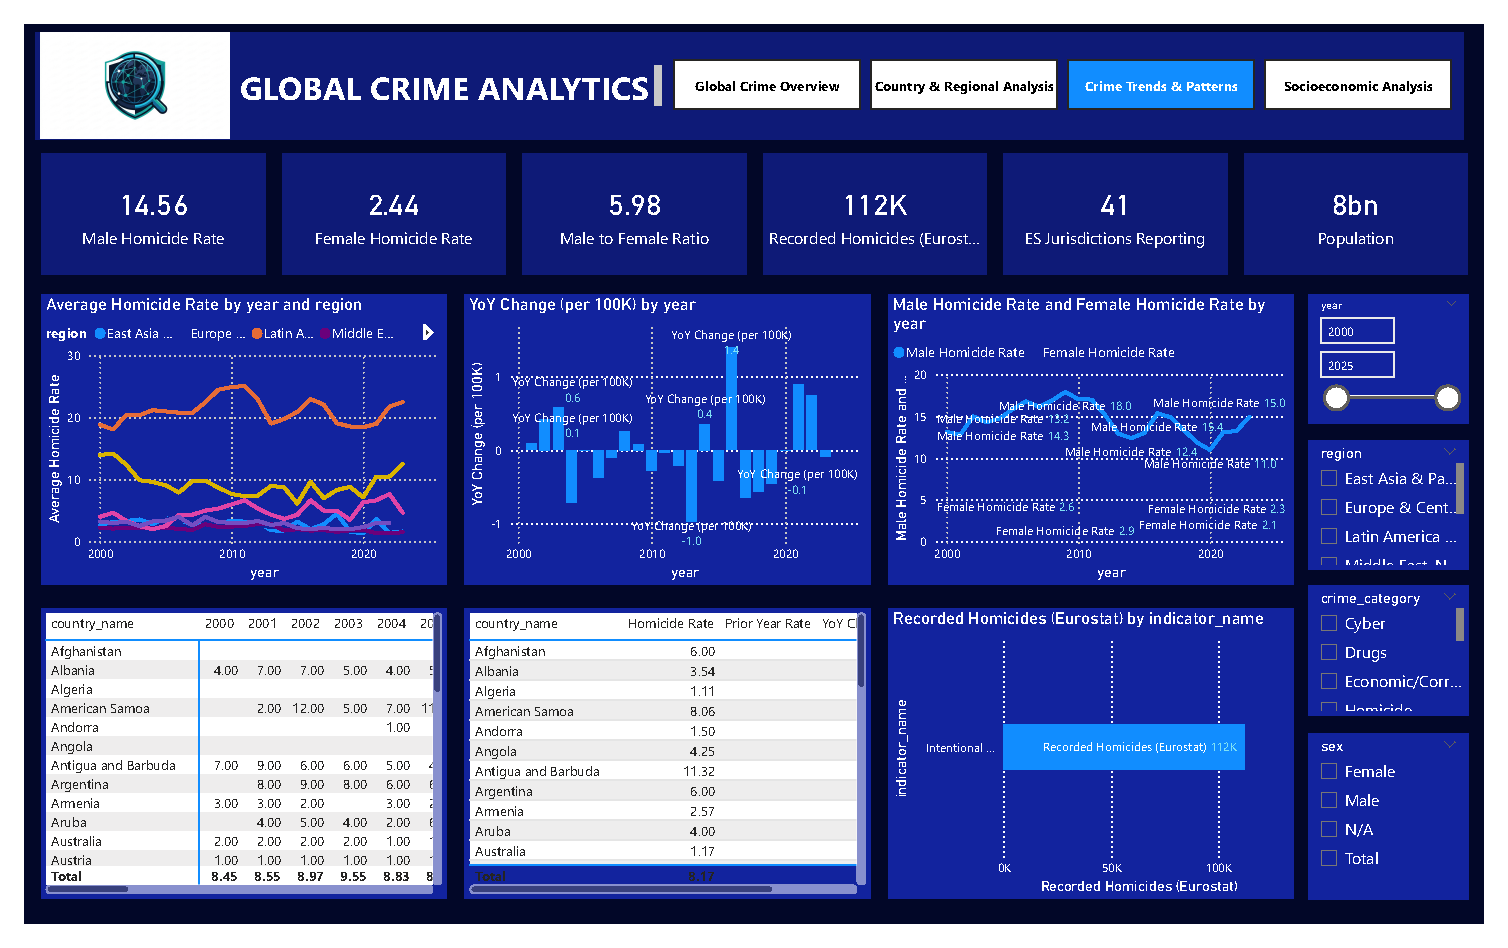

Layout of this report page (visuals, bound fields, positions):
{"tool":"powerbi","page":{"name":"Crime Trends & Patterns","canvas":[1460,900],"ordinal":2},"visuals":[{"type":"shape","box":[11.4,7.6,1429.1,108.5],"z":0},{"type":"card","fields":{"Values":["Global_Crime_Analytics_Master.Male Homicide Rate"]},"box":[17.3,129.4,224.5,121.8],"z":0,"group":"g1"},{"type":"lineChart","fields":{"Category":["Global_Crime_Analytics_Master.year"],"Y":["Global_Crime_Analytics_Master.Average Homicide Rate"],"Series":["Global_Crime_Analytics_Master.region"]},"box":[17.2,270.2,406.2,291.2],"z":0,"group":"g2"},{"type":"pivotTable","fields":{"Rows":["Global_Crime_Analytics_Master.country_name"],"Columns":["Global_Crime_Analytics_Master.year"],"Values":["Global_Crime_Analytics_Master.Homicide Rate"]},"box":[17.2,584.4,406.2,291.2],"z":0,"group":"g3"},{"type":"image","box":[17.1,3.8,188.4,116.1],"z":1000},{"type":"card","fields":{"Values":["Global_Crime_Analytics_Master.Female Homicide Rate"]},"box":[257.8,129.4,224.5,121.8],"z":1000,"group":"g1"},{"type":"clusteredColumnChart","fields":{"Category":["Global_Crime_Analytics_Master.year"],"Y":["Global_Crime_Analytics_Master.YoY Change (per 100K)"]},"box":[440.6,270.2,406.2,291.2],"z":1000,"group":"g2"},{"type":"tableEx","fields":{"Values":["Global_Crime_Analytics_Master.country_name","Global_Crime_Analytics_Master.Homicide Rate","Global_Crime_Analytics_Master.Prior Year Rate","Global_Crime_Analytics_Master.YoY Change (per 100K)"]},"box":[440.6,584.4,406.2,291.2],"z":1000,"group":"g3"},{"type":"textbox","box":[205.5,36.2,437.7,51.4],"z":2000},{"type":"card","fields":{"Values":["Global_Crime_Analytics_Master.Male to Female Ratio"]},"box":[498.3,129.4,224.5,121.8],"z":2000,"group":"g1"},{"type":"lineChart","fields":{"Category":["Global_Crime_Analytics_Master.year"],"Y":["Global_Crime_Analytics_Master.Male Homicide Rate","Global_Crime_Analytics_Master.Female Homicide Rate"]},"box":[864.1,270.2,406.2,291.2],"z":2000,"group":"g2"},{"type":"clusteredBarChart","fields":{"Category":["Global_Crime_Analytics_Master.indicator_name"],"Y":["Global_Crime_Analytics_Master.Recorded Homicides (Eurostat)"]},"box":[864.1,584.4,406.2,291.2],"z":2000,"group":"g3"},{"type":"group","id":"g1","title":"Group 1","box":[17.3,129.4,1427.2,121.8],"z":3000},{"type":"card","fields":{"Values":["Global_Crime_Analytics_Master.Recorded Homicides (Eurostat)"]},"box":[738.9,129.4,224.5,121.8],"z":3000,"group":"g1"},{"type":"card","fields":{"Values":["Global_Crime_Analytics_Master.ES Jurisdictions Reporting"]},"box":[979.4,129.4,224.5,121.8],"z":4000,"group":"g1"},{"type":"group","id":"g2","title":"Group 2","box":[17.2,270.2,1253.1,291.2],"z":4000},{"type":"card","fields":{"Values":["Global_Crime_Analytics_Master.Population"]},"box":[1219.9,129.4,224.5,121.8],"z":5000,"group":"g1"},{"type":"group","id":"g3","title":"Group 2","box":[17.2,584.4,1253.1,291.2],"z":5000},{"type":"slicer","fields":{"Values":["Global_Crime_Analytics_Master.year"]},"box":[1283.7,270.2,160.9,130.3],"z":6000},{"type":"slicer","fields":{"Values":["Global_Crime_Analytics_Master.region"]},"box":[1283.7,415.8,160.9,130.3],"z":7000},{"type":"slicer","fields":{"Values":["Global_Crime_Analytics_Master.crime_category"]},"box":[1283.7,561.4,160.9,130.3],"z":8000},{"type":"slicer","fields":{"Values":["Global_Crime_Analytics_Master.sex"]},"box":[1283.7,708.9,160.9,166.7],"z":9000},{"type":"pageNavigator","box":[649.5,36.4,781.7,49.8],"z":10000}]}

Visuals, with their boxes in screenshot pixels (x1, y1, x2, y2), scaled from the page's 1460x900 canvas onto the 1508x948 screenshot:
shape: 12 8 1488 122
card - Global_Crime_Analytics_Master.Male Homicide Rate: 18 136 250 265
lineChart - Global_Crime_Analytics_Master.year x Global_Crime_Analytics_Master.Average Homicide Rate: 18 285 437 591
pivotTable - Global_Crime_Analytics_Master.country_name x Global_Crime_Analytics_Master.year: 18 616 437 922
image: 18 4 212 126
card - Global_Crime_Analytics_Master.Female Homicide Rate: 266 136 498 265
clusteredColumnChart - Global_Crime_Analytics_Master.year x Global_Crime_Analytics_Master.YoY Change (per 100K): 455 285 875 591
tableEx - Global_Crime_Analytics_Master.country_name x Global_Crime_Analytics_Master.Homicide Rate: 455 616 875 922
textbox: 212 38 664 92
card - Global_Crime_Analytics_Master.Male to Female Ratio: 515 136 747 265
lineChart - Global_Crime_Analytics_Master.year x Global_Crime_Analytics_Master.Male Homicide Rate: 893 285 1312 591
clusteredBarChart - Global_Crime_Analytics_Master.indicator_name x Global_Crime_Analytics_Master.Recorded Homicides (Eurostat): 893 616 1312 922
"Group 1" group: 18 136 1492 265
card - Global_Crime_Analytics_Master.Recorded Homicides (Eurostat): 763 136 995 265
card - Global_Crime_Analytics_Master.ES Jurisdictions Reporting: 1012 136 1243 265
"Group 2" group: 18 285 1312 591
card - Global_Crime_Analytics_Master.Population: 1260 136 1492 265
"Group 2" group: 18 616 1312 922
slicer - Global_Crime_Analytics_Master.year: 1326 285 1492 422
slicer - Global_Crime_Analytics_Master.region: 1326 438 1492 575
slicer - Global_Crime_Analytics_Master.crime_category: 1326 591 1492 729
slicer - Global_Crime_Analytics_Master.sex: 1326 747 1492 922
pageNavigator: 671 38 1478 91
